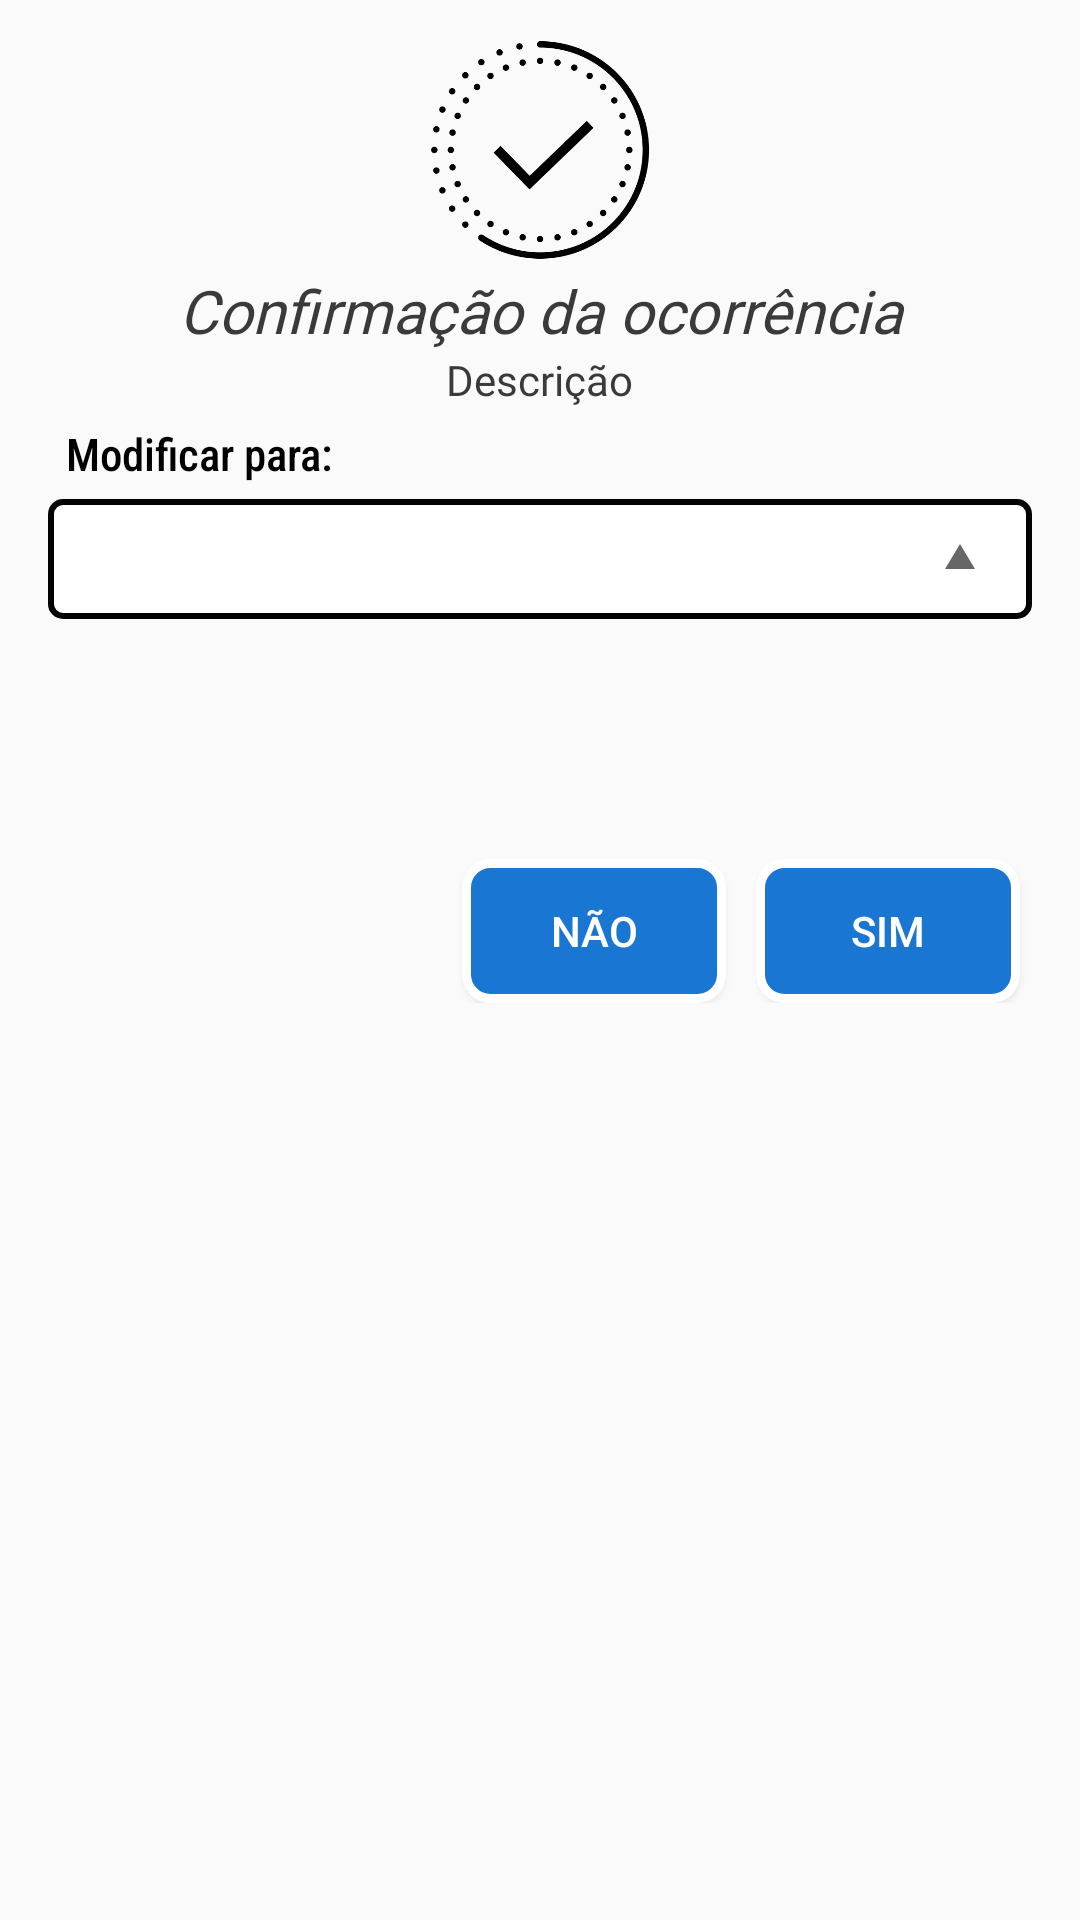

Where icons sit on this 1080*1920 app screen, as detection(x1, y1, x2, y2):
verification dialog: detection(431, 41, 649, 259)
